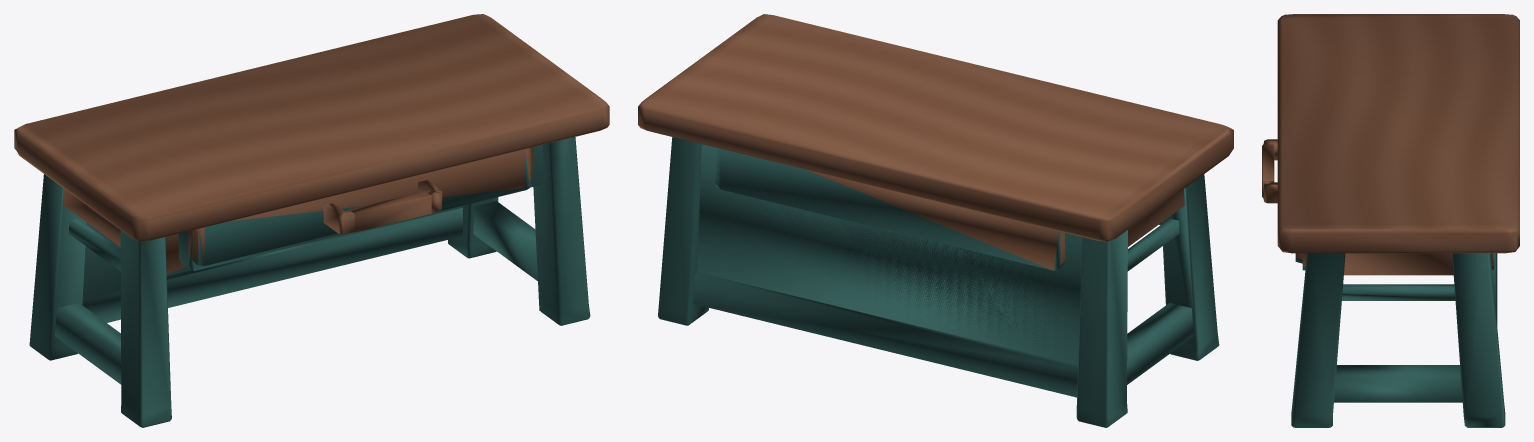
Rendered from P01_atlas_v1.glb.
3 views of the same model, side by side, from view 1: azimuth 30°, elevation 25°; view 2: azimuth 150°, elevation 25°; view 3: azimuth 270°, elevation 25° (orthographic). The views are drawn at different scales.
Visible parts, largest first — view 1: P01_Geometry; view 2: P01_Geometry; view 3: P01_Geometry.
Part boxes in pixels (x1,y1,x2,y2): P01_Geometry: [14, 14, 609, 427]; P01_Geometry: [638, 14, 1233, 427]; P01_Geometry: [1262, 14, 1519, 427].
Bounding box in the file's own units: 8 × 3.5 × 4.
Materials: 1 (1 with a texture image).
